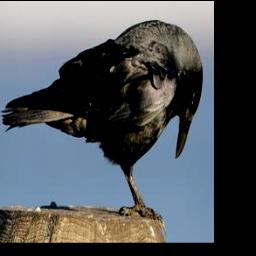Crow: (0, 18, 204, 236)
